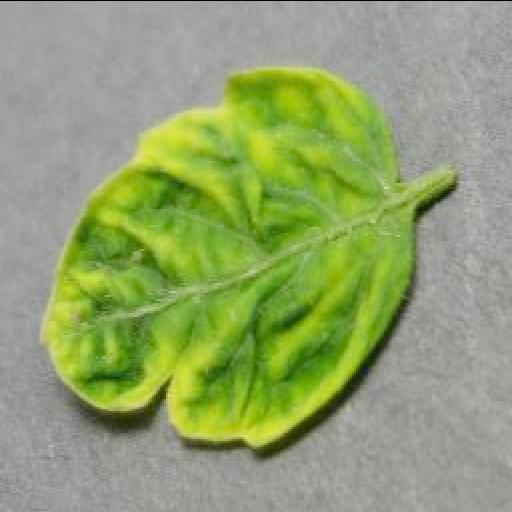disease_tomato: (38, 66, 420, 450)
